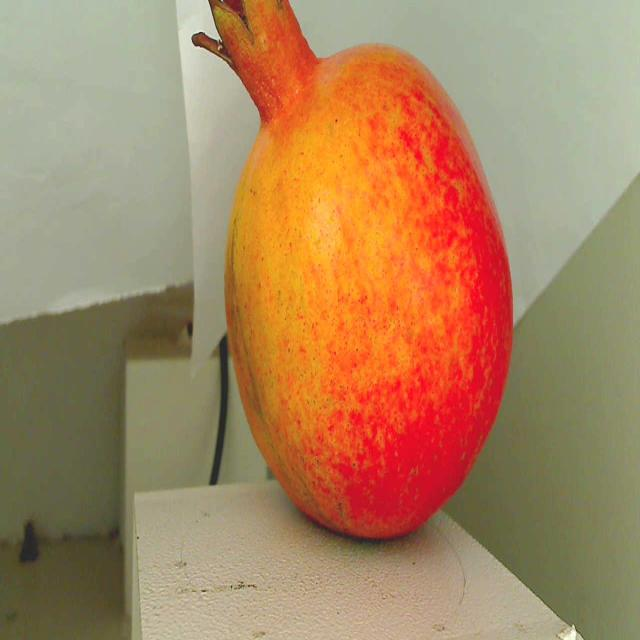pomegranate: (185, 0, 516, 564)
